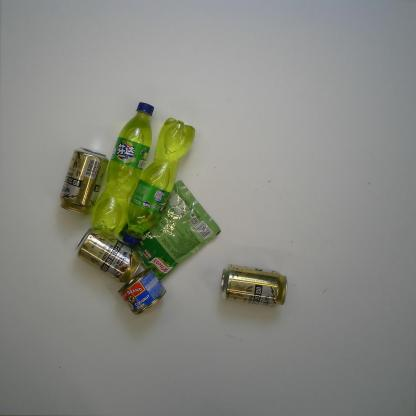Alcohol: (76, 227, 143, 284), (59, 147, 110, 215), (220, 263, 288, 308)
Canned Food: (118, 267, 168, 316)
Drink: (121, 116, 196, 246), (90, 102, 155, 233)
Seasoner: (118, 179, 222, 282)
